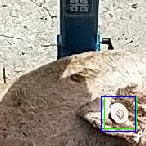text: (104, 96, 136, 128)
